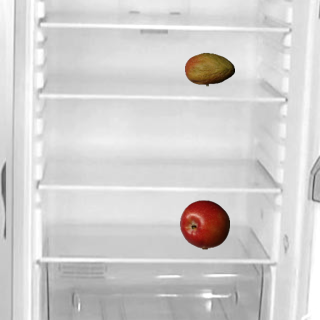Apple Braeburn: (179, 199, 229, 249)
Papaya: (184, 44, 234, 94)
